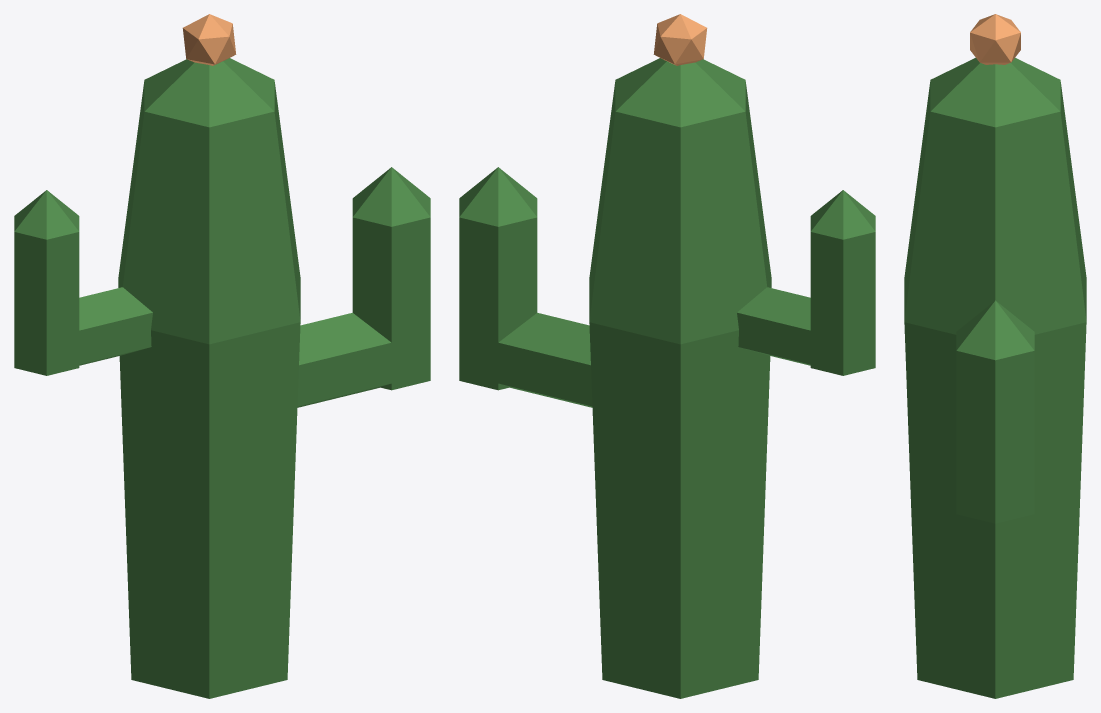
File: cactus-large.glb
3 renders of one model, left to right at view 1: azimuth 30°, elevation 25°; view 2: azimuth 150°, elevation 25°; view 3: azimuth 270°, elevation 25°, orthographic.
Parts seen in each view (by area): view 1: sand-cactus-large; view 2: sand-cactus-large; view 3: sand-cactus-large.
Part boxes in pixels (x1,y1,x2,y2): sand-cactus-large: (14, 14, 430, 698); sand-cactus-large: (459, 14, 875, 698); sand-cactus-large: (904, 14, 1086, 698).
Size of the model in its own units: 0.64 by 0.97 by 0.2425.
